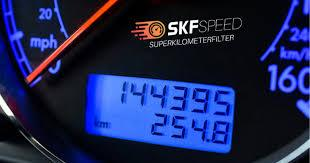odometer: (83, 70, 235, 154)
